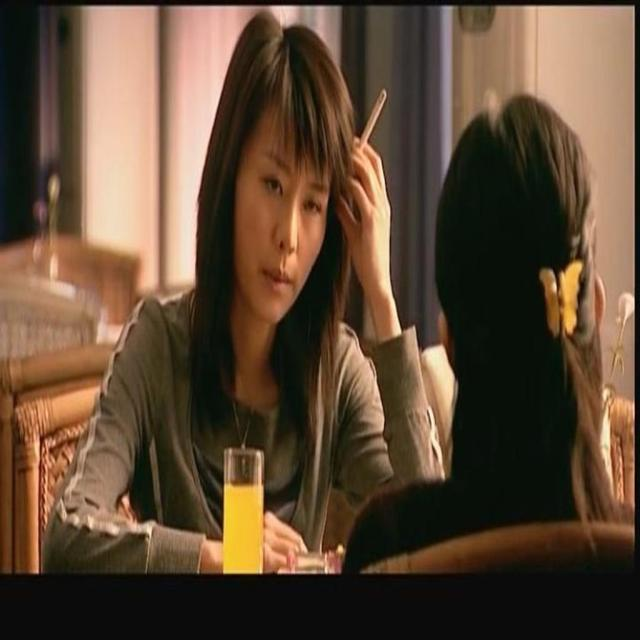smoking: (218, 47, 392, 331)
